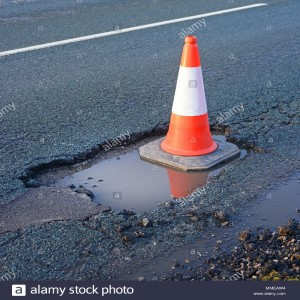traffic cone: (138, 35, 241, 172)
